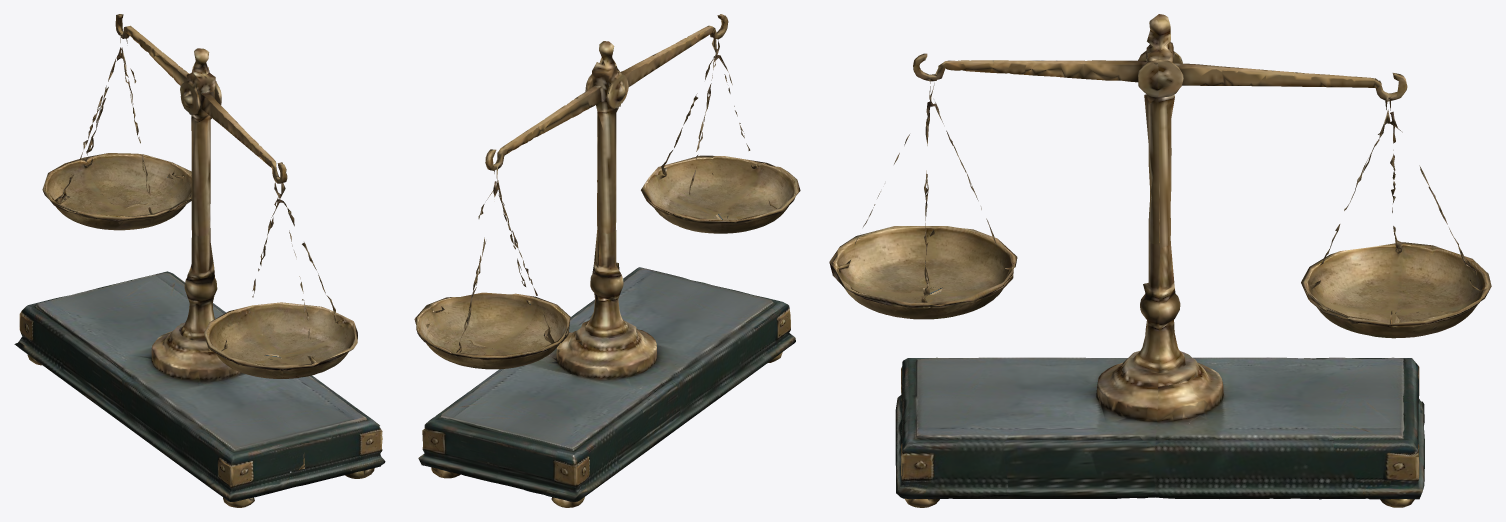
Rendered from balance-mobile.glb.
3 renders of one model, left to right at view 1: azimuth 30°, elevation 25°; view 2: azimuth 150°, elevation 25°; view 3: azimuth 270°, elevation 25°, orthographic. The views are drawn at different scales.
Visible parts, largest first — view 1: tripo_node_82a17241-a3a7-4bf5-a1d9-b632d9dff5a1; view 2: tripo_node_82a17241-a3a7-4bf5-a1d9-b632d9dff5a1; view 3: tripo_node_82a17241-a3a7-4bf5-a1d9-b632d9dff5a1.
Boxes of the visible parts, box(x1,y1,x2,y2) form: tripo_node_82a17241-a3a7-4bf5-a1d9-b632d9dff5a1: box(14, 14, 385, 507); tripo_node_82a17241-a3a7-4bf5-a1d9-b632d9dff5a1: box(414, 14, 800, 507); tripo_node_82a17241-a3a7-4bf5-a1d9-b632d9dff5a1: box(829, 14, 1491, 507).
Bounding box in the file's own units: 0.3565 × 0.7559 × 0.9986.
Materials: 1 (1 with a texture image).
